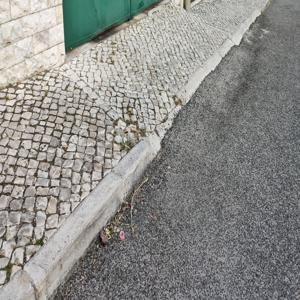plastic: (99, 230, 115, 243), (115, 229, 133, 239)
